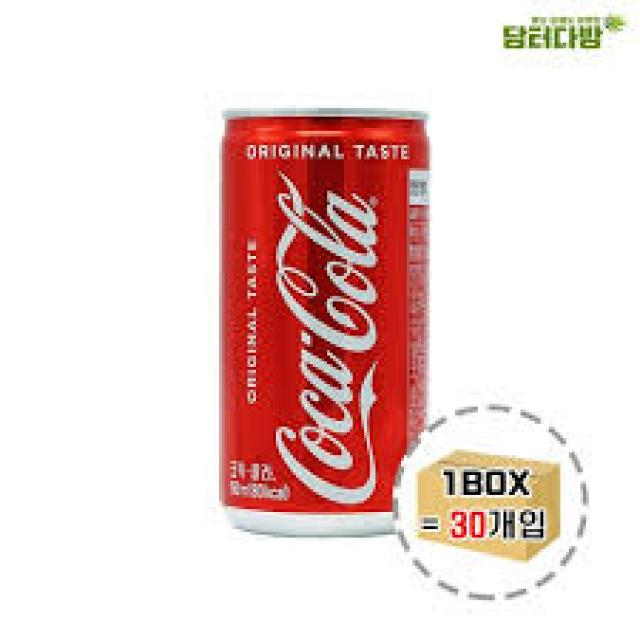Coca-Cola: (202, 96, 446, 545)
